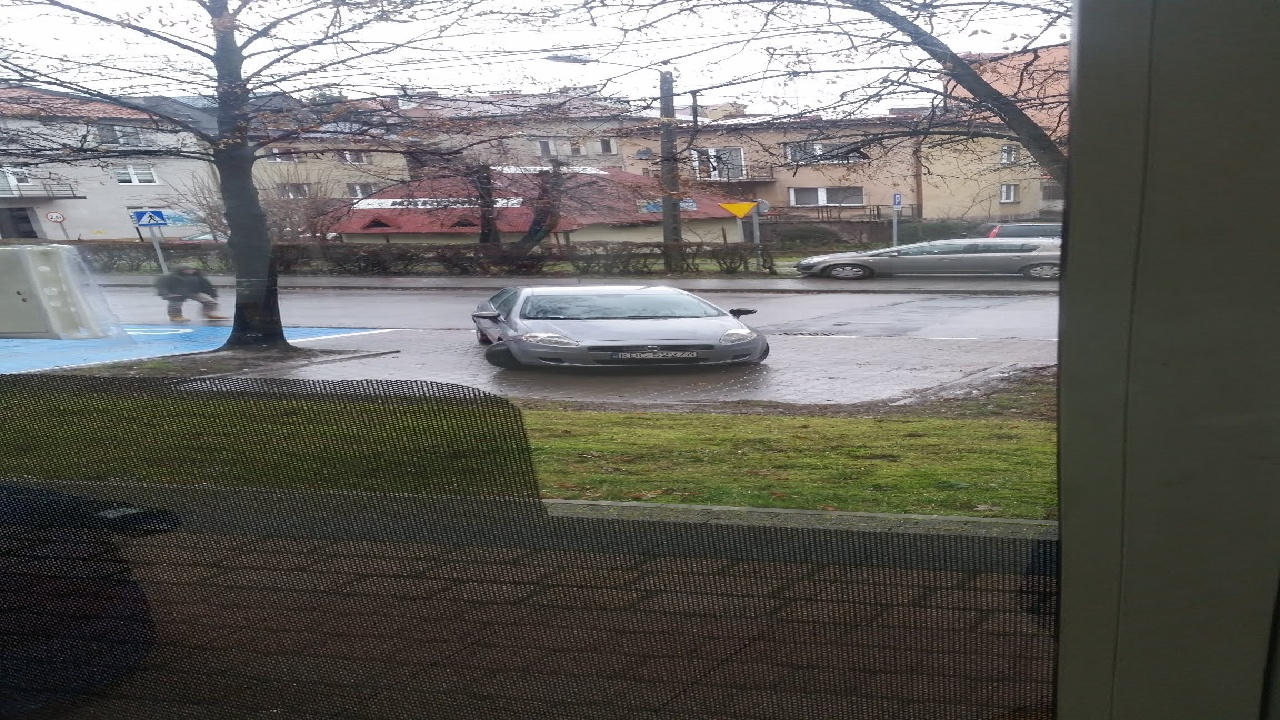A7: (715, 193, 762, 226)
D6: (127, 204, 170, 232)
